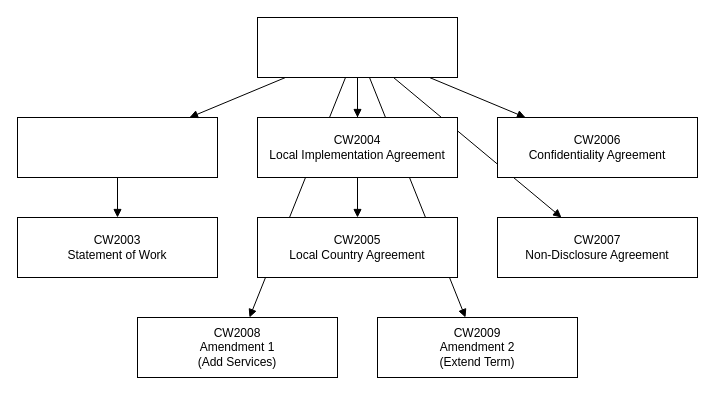
Image size: 715x395. Some labels were removed from this diagram. The shapes that lost their labels are listed below. From the top down, each one's centre as x and y in pixels, then its label:
At (x=357, y=47): "CW2001 Master Service Agreement".
At (x=117, y=147): "CW2002 Framework Agreement".
